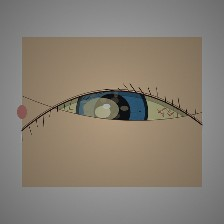corneal_ulcer: (72, 87, 130, 133)
